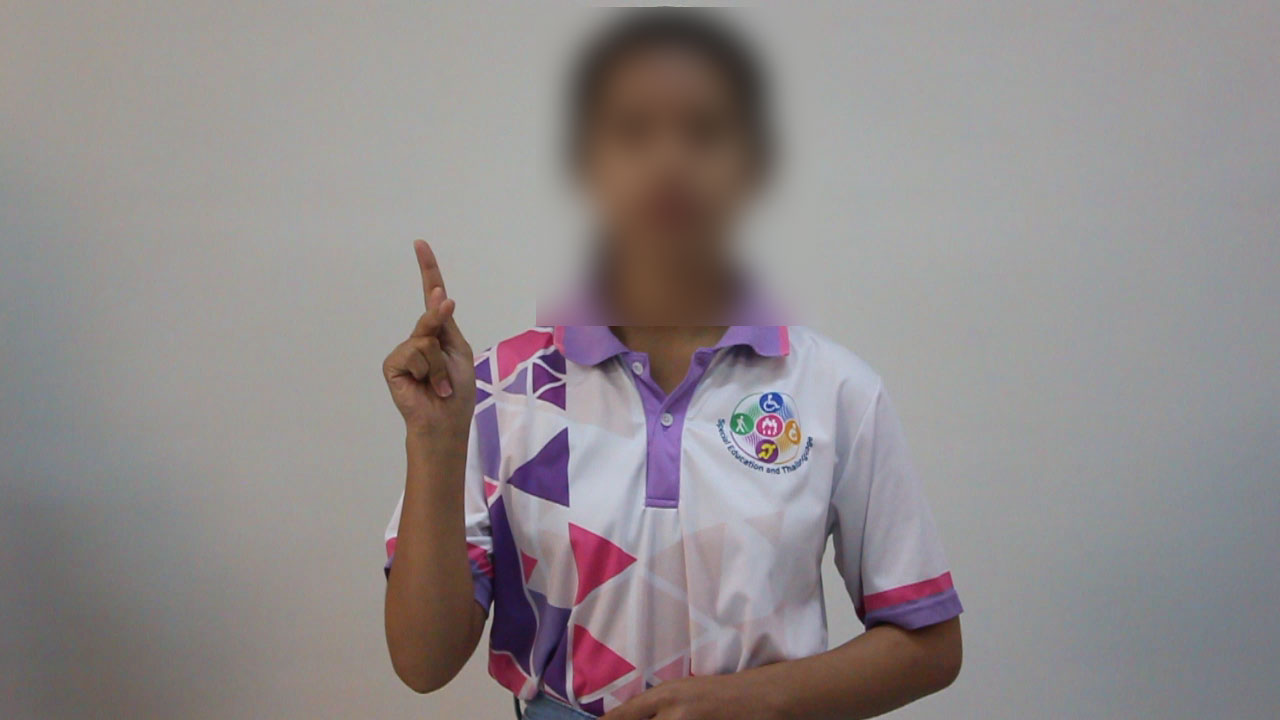ko: (355, 236, 502, 430)
